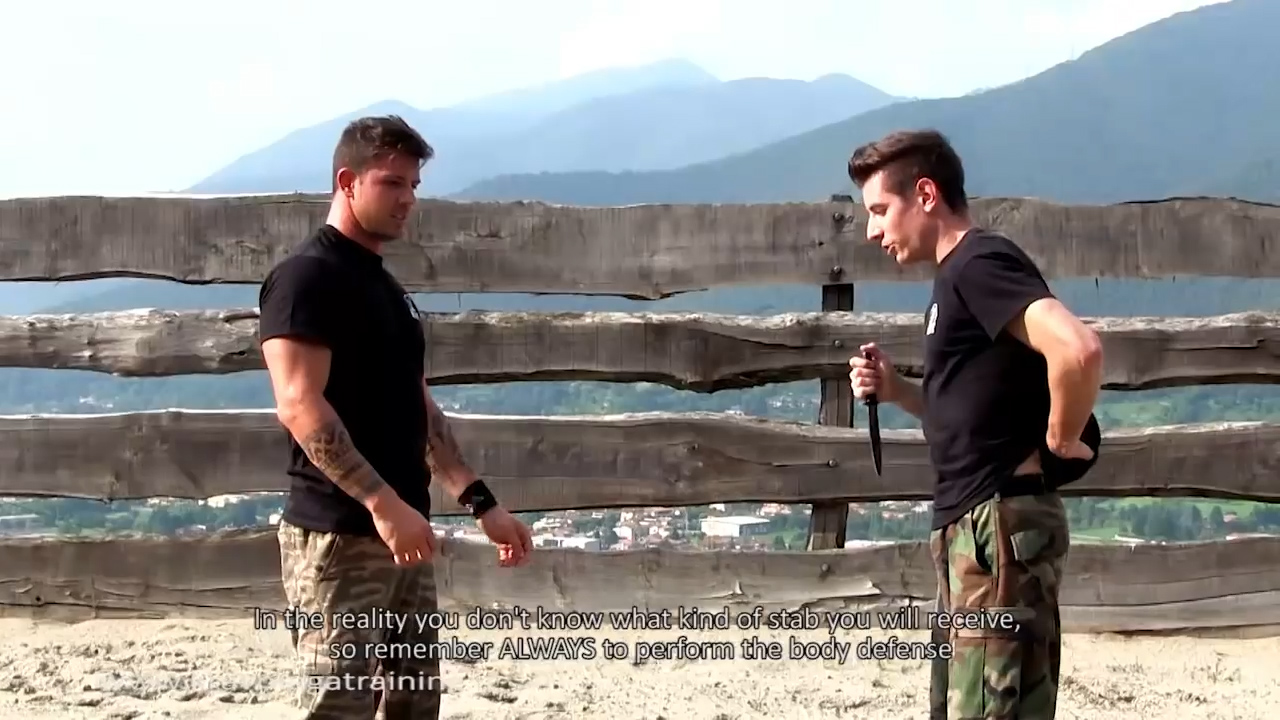knife: (839, 338, 893, 482)
